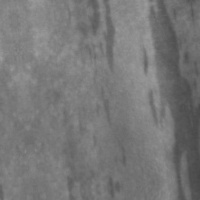inclusion: (135, 0, 199, 181), (55, 103, 110, 192), (73, 9, 120, 78), (95, 83, 116, 128), (112, 134, 130, 169)
